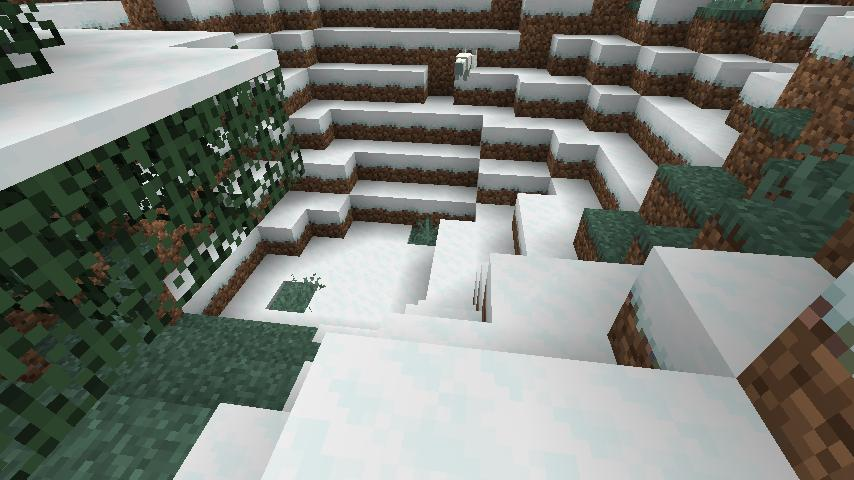fox: (449, 45, 482, 85)
